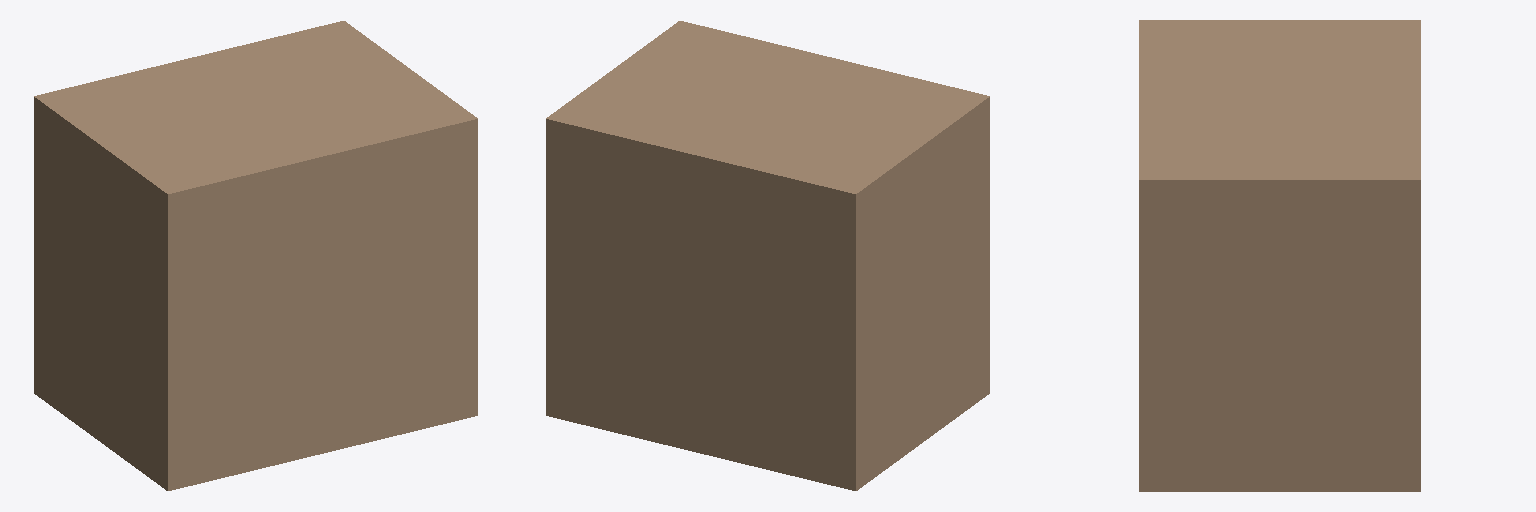
The robot description file, URDF, robot "box.urdf":
<?xml version="1.0" ?>
<robot name="box.urdf">
  <link name="baseLink">
    <contact>
      <lateral_friction value="1.0"/>
      <rolling_friction value="0.0001"/>
      <inertia_scaling value="3.0"/>
    </contact>
    <inertial>
      <origin rpy="0 0 0" xyz="0 0 0"/>
       <mass value="0.1"/>
       <inertia ixx="1" ixy="0" ixz="0" iyy="1" iyz="0" izz="1"/>
    </inertial>
    <visual>
      <origin rpy="0 0 0" xyz="0 0 0"/>
      <geometry>
        <!-- <box size="0.187 0.14 0.171"/> -->
        <mesh filename="box/box.obj" scale="0.187 0.14 0.171"/>
      </geometry>
      <material name="white">
        <color rgba="0.7 0.6 0.5 1"/>
      </material>
    </visual>
    <collision>
      <origin rpy="0 0 0" xyz="0 0 0"/>
      <geometry>
        <mesh filename="box/box.obj" scale="0.187 0.14 0.171"/>
	 	    <!-- <box size="0.187 0.14 0.171"/> -->
      </geometry>
    </collision>
  </link>
</robot>

--- Facts derived from the render (not from the file) ---
Views: 3 orthographic renders of the robot side by side, from view 1: azimuth 30°, elevation 25°; view 2: azimuth 150°, elevation 25°; view 3: azimuth 270°, elevation 25°.
Model box.urdf with 1 links and 0 joints (none), rooted at baseLink, posed all joints at 0.
Visible links, largest first — view 1: baseLink; view 2: baseLink; view 3: baseLink.
Boxes of the visible links, x1,y1,x2,y2 form: baseLink: [34, 21, 477, 490]; baseLink: [546, 21, 989, 490]; baseLink: [1139, 20, 1420, 491].
Bounding box of the posed robot: 0.187 × 0.14 × 0.171 m (x, y, z).
Meshes: 1 distinct files referenced, 1 mesh visuals loaded (1 OBJ).
